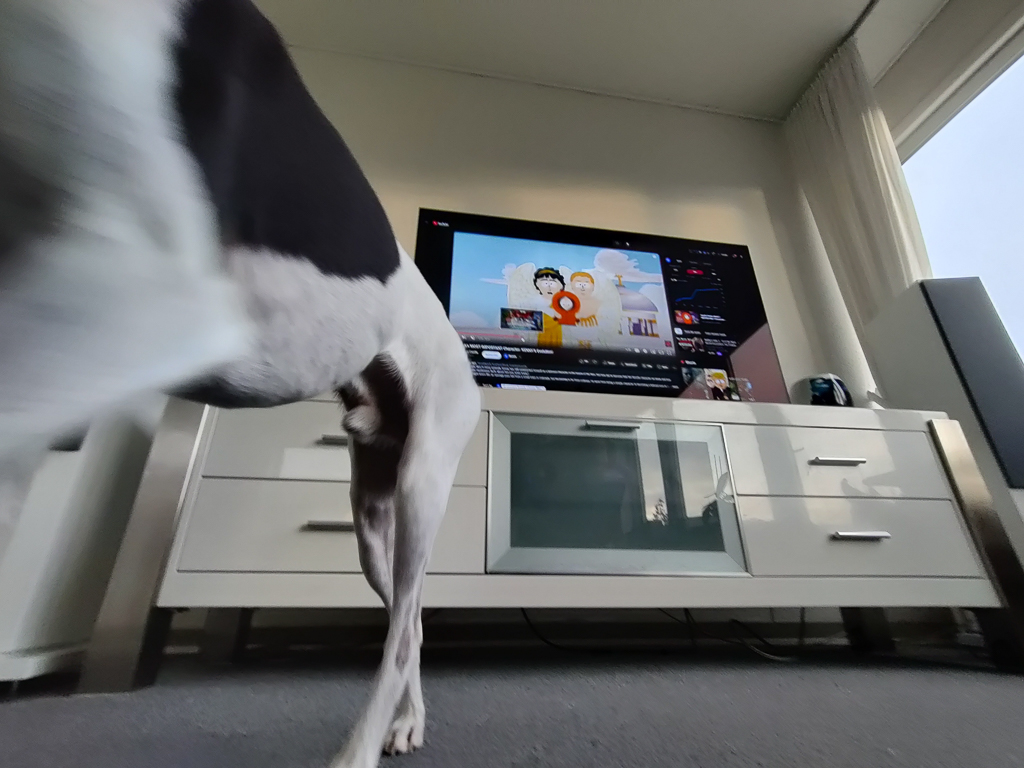Dog: (0, 0, 486, 768)
